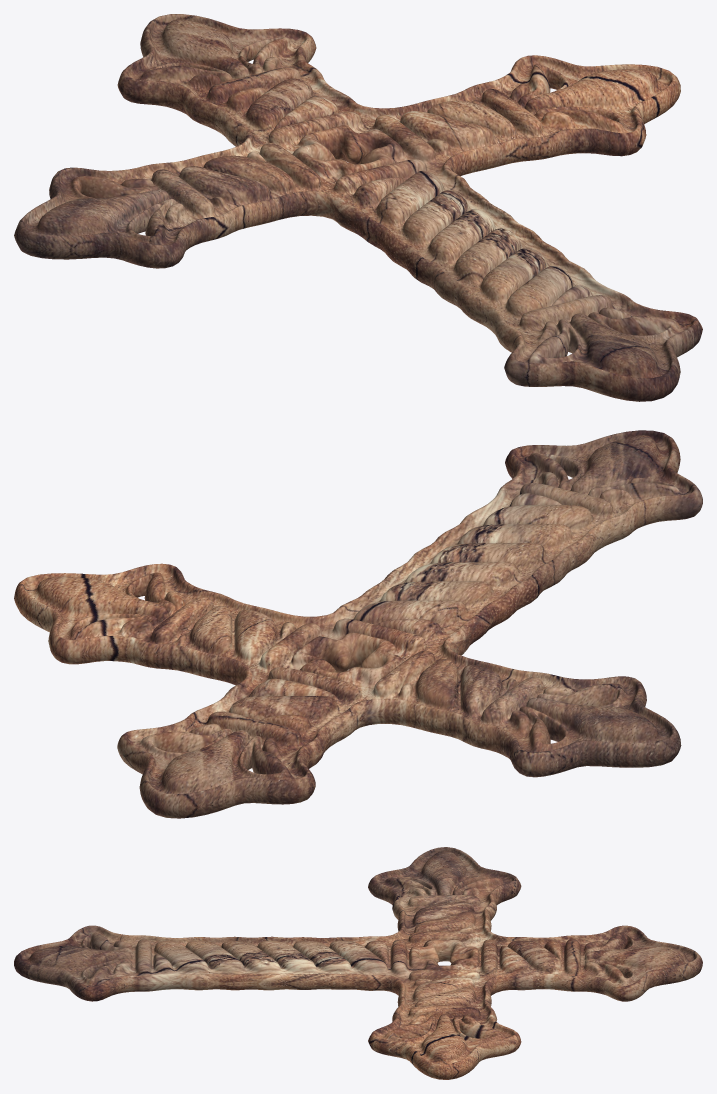
The model's file is cross.fbx.
The picture shows the model from 3 angles, top to bottom: view 1: azimuth 30°, elevation 25°; view 2: azimuth 150°, elevation 25°; view 3: azimuth 270°, elevation 25°; orthographic projection. The views are drawn at different scales.
Visible parts, largest first — view 1: Christian Cross 16; view 2: Christian Cross 16; view 3: Christian Cross 16.
Boxes of the visible parts, left/top/right/bottom form: Christian Cross 16: left=14, top=14, right=702, bottom=401; Christian Cross 16: left=14, top=430, right=702, bottom=818; Christian Cross 16: left=14, top=847, right=702, bottom=1079.
Size of the model in its own units: 34.58 by 1.97 by 45.58.
